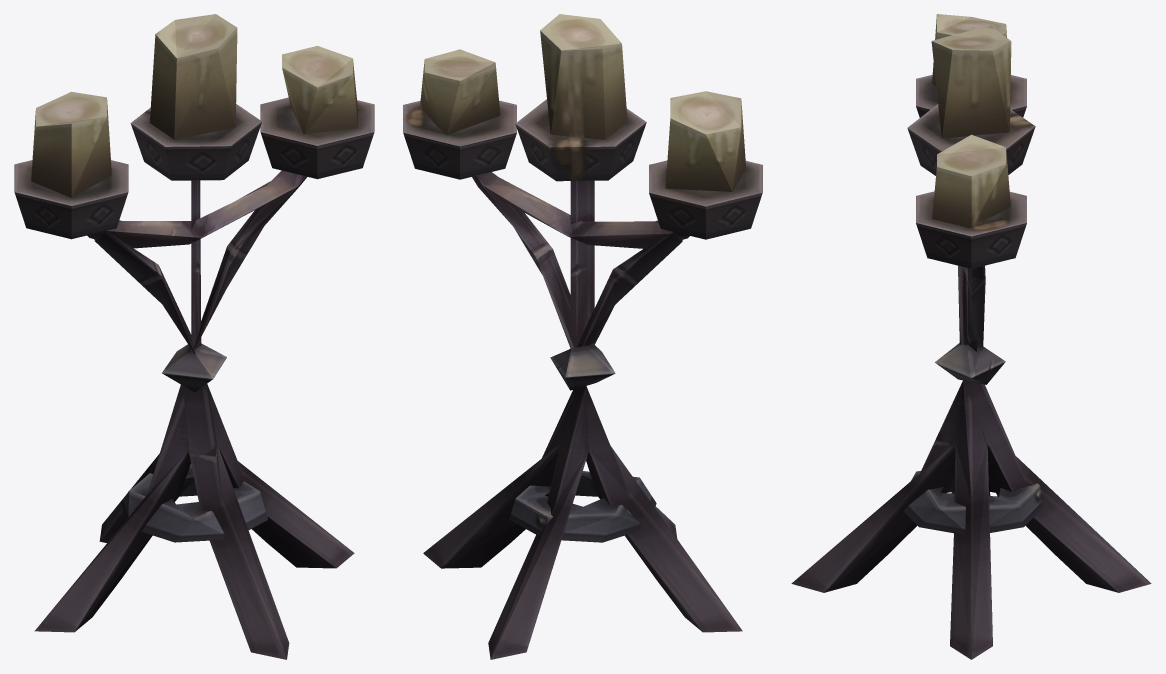
3 views of the same model, side by side, from view 1: azimuth 30°, elevation 25°; view 2: azimuth 150°, elevation 25°; view 3: azimuth 270°, elevation 25° (orthographic). The views are drawn at different scales.
Parts seen in each view (by area): view 1: candelabra_02; view 2: candelabra_02; view 3: candelabra_02.
Boxes of the visible parts, x1=… form: candelabra_02: x1=14, y1=14, x2=374, y2=659; candelabra_02: x1=403, y1=14, x2=762, y2=659; candelabra_02: x1=791, y1=14, x2=1151, y2=659.
Size of the model in its own units: 67.37 by 59.94 by 101.
